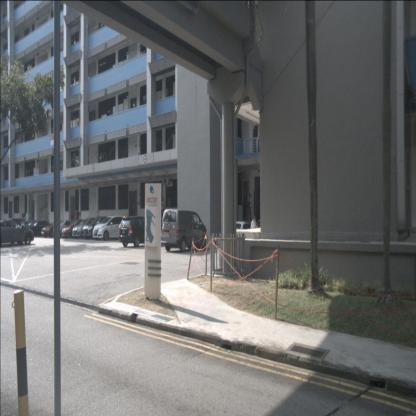human-pedestrian-adult: (244, 192, 252, 224), (251, 214, 257, 250)
vehicle-car: (161, 208, 207, 252), (118, 216, 160, 247), (92, 215, 130, 241), (0, 219, 35, 247), (82, 216, 118, 239), (72, 218, 106, 239), (230, 221, 257, 245), (62, 219, 92, 238), (41, 221, 71, 238), (54, 220, 80, 239), (6, 218, 31, 236), (24, 221, 52, 236)
